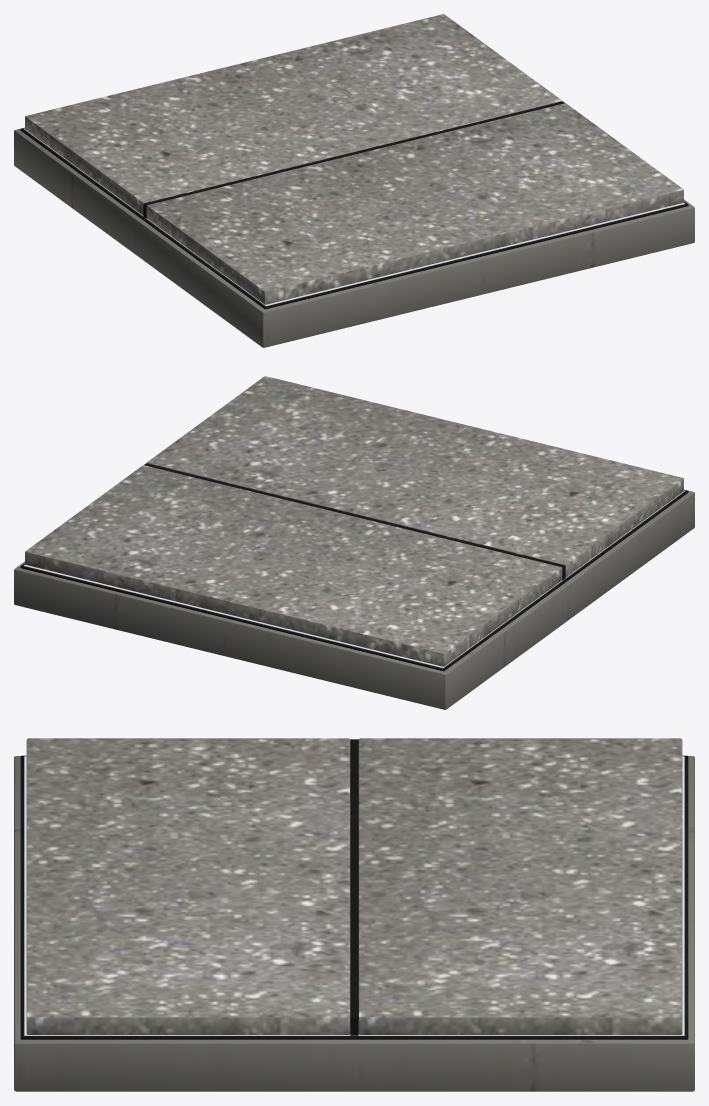
File: IMP-PRT-001_lod1.glb
3 renders of one model, top to bottom at view 1: azimuth 30°, elevation 25°; view 2: azimuth 150°, elevation 25°; view 3: azimuth 270°, elevation 25°, orthographic. The views are drawn at different scales.
Visible parts, largest first — view 1: IMP-PRT-001_protecao0, IMP-PRT-001_protecao1, IMP-PRT-001_laje, IMP-PRT-001_manta, IMP-PRT-001_junta, IMP-PRT-001_filme; view 2: IMP-PRT-001_protecao1, IMP-PRT-001_protecao0, IMP-PRT-001_laje, IMP-PRT-001_manta, IMP-PRT-001_junta, IMP-PRT-001_filme; view 3: IMP-PRT-001_protecao0, IMP-PRT-001_protecao1, IMP-PRT-001_laje, IMP-PRT-001_manta, IMP-PRT-001_junta, IMP-PRT-001_filme.
Boxes of the visible parts, box(x1,y1,x2,y2) form: IMP-PRT-001_protecao0: box(146, 103, 683, 304); IMP-PRT-001_protecao1: box(25, 14, 561, 215); IMP-PRT-001_laje: box(14, 127, 694, 347); IMP-PRT-001_manta: box(20, 128, 688, 309); IMP-PRT-001_junta: box(143, 101, 564, 218); IMP-PRT-001_filme: box(24, 128, 684, 306); IMP-PRT-001_protecao1: box(25, 465, 562, 666); IMP-PRT-001_protecao0: box(147, 376, 683, 577); IMP-PRT-001_laje: box(14, 489, 694, 709); IMP-PRT-001_manta: box(20, 490, 688, 671); IMP-PRT-001_junta: box(144, 463, 565, 580); IMP-PRT-001_filme: box(24, 490, 684, 668); IMP-PRT-001_protecao0: box(26, 738, 350, 1034); IMP-PRT-001_protecao1: box(358, 738, 682, 1034); IMP-PRT-001_laje: box(14, 756, 694, 1091); IMP-PRT-001_manta: box(20, 755, 688, 1039); IMP-PRT-001_junta: box(350, 739, 358, 1035); IMP-PRT-001_filme: box(24, 756, 684, 1035).
Bounding box in the file's own units: 1 × 0.1148 × 1.
Materials: 5 (4 with a texture image).
